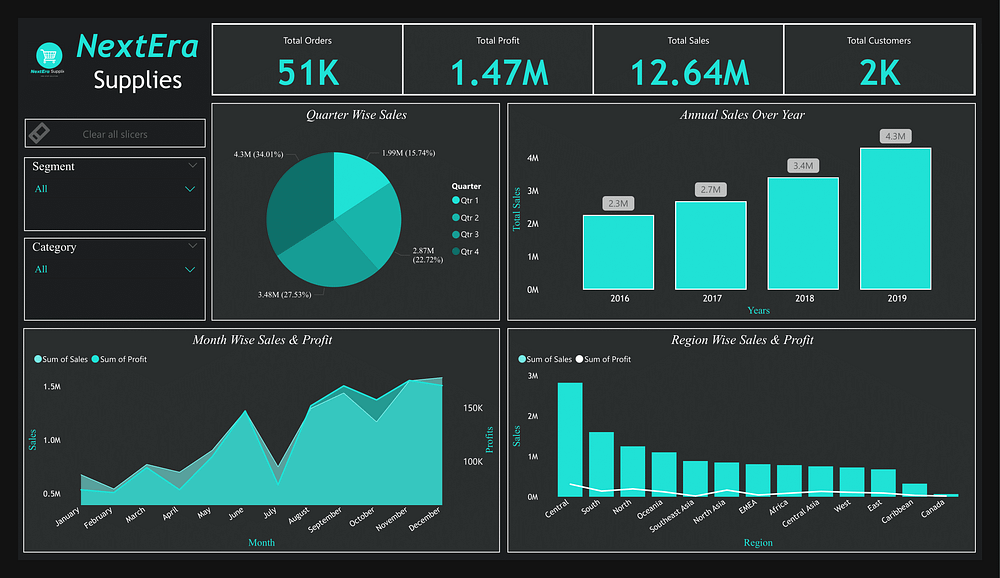

What the dashboard file says about the page in this screenshot:
{"tool":"powerbi","page":{"name":"Page 2","canvas":[1280,720],"ordinal":1},"visuals":[{"type":"cardVisual","fields":{"Data":["Measure Table.Total Orders","Measure Table.Total Profit","Measure Table.Total Sales","Measure Table.Total Customers"]},"box":[257,7,1015.1,96.5],"z":0},{"type":"lineStackedColumnComboChart","title":"Annual Sales Over Year","fields":{"Category":["Orders.Order Date.Variation.Date Hierarchy.Year"],"Y":["Sum(Orders.Sales)"]},"box":[650,112.8,622.1,289.5],"z":1000},{"type":"image","box":[7,22,68,67],"z":2000},{"type":"textbox","box":[61,7,196,97],"z":3000},{"type":"areaChart","title":"Month Wise Sales & Profit","fields":{"Category":["Orders.Order Date.Variation.Date Hierarchy.Month"],"Y":["Sum(Orders.Sales)"],"Y2":["Sum(Orders.Profit)"]},"box":[7,411.6,632.6,298.8],"z":4000},{"type":"lineStackedColumnComboChart","title":"Region Wise Sales & Profit","fields":{"Category":["Orders.Region"],"Y2":["Sum(Orders.Profit)"],"Y":["Sum(Orders.Sales)"]},"box":[650,411.6,622.1,298.8],"z":5000},{"type":"pieChart","title":"Quarter Wise Sales","fields":{"Category":["Orders.Order Date.Variation.Date Hierarchy.Quarter"],"Y":["Sum(Orders.Sales)"]},"box":[257,112.8,382.6,289.5],"z":6000},{"type":"slicer","fields":{"Values":["Orders.Segment"]},"box":[7.2,235.2,239.5,76.5],"z":7000},{"type":"slicer","fields":{"Values":["Orders.Category"]},"box":[8.7,324.6,239.5,77.9],"z":8000},{"type":"actionButton","box":[8.7,131.3,240.9,40.4],"z":9000},{"type":"actionButton","box":[138.5,181.8,108.2,40.4],"z":10000},{"type":"actionButton","box":[8.7,181.8,118.3,40.4],"z":11000}]}

Visuals, with their boxes in screenshot pixels (x1, y1, x2, y2), scaled from the page's 1280x720 canvas onto the 1000x578 screenshot:
cardVisual - Measure Table.Total Orders x Measure Table.Total Profit: bbox(201, 6, 994, 83)
"Annual Sales Over Year" lineStackedColumnComboChart: bbox(508, 91, 994, 323)
image: bbox(5, 18, 59, 71)
textbox: bbox(48, 6, 201, 83)
"Month Wise Sales & Profit" areaChart: bbox(5, 330, 500, 570)
"Region Wise Sales & Profit" lineStackedColumnComboChart: bbox(508, 330, 994, 570)
"Quarter Wise Sales" pieChart: bbox(201, 91, 500, 323)
slicer - Orders.Segment: bbox(6, 189, 193, 250)
slicer - Orders.Category: bbox(7, 261, 194, 323)
actionButton: bbox(7, 105, 195, 138)
actionButton: bbox(108, 146, 193, 178)
actionButton: bbox(7, 146, 99, 178)
